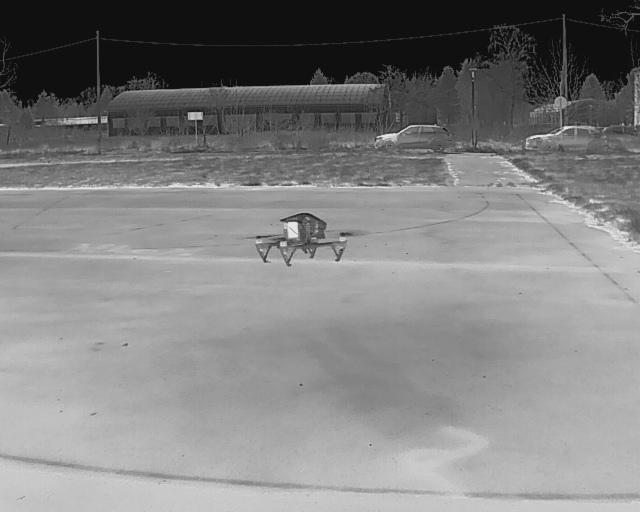drone: (241, 200, 367, 276)
